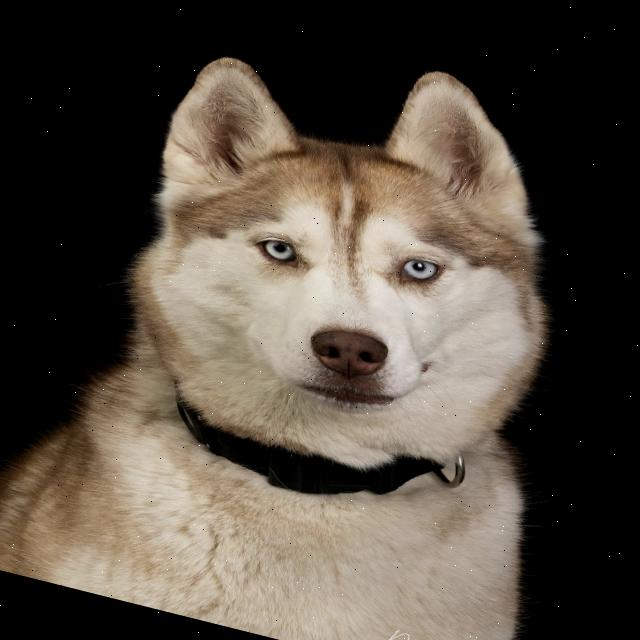siberian_husky_dog: (62, 0, 631, 521)
